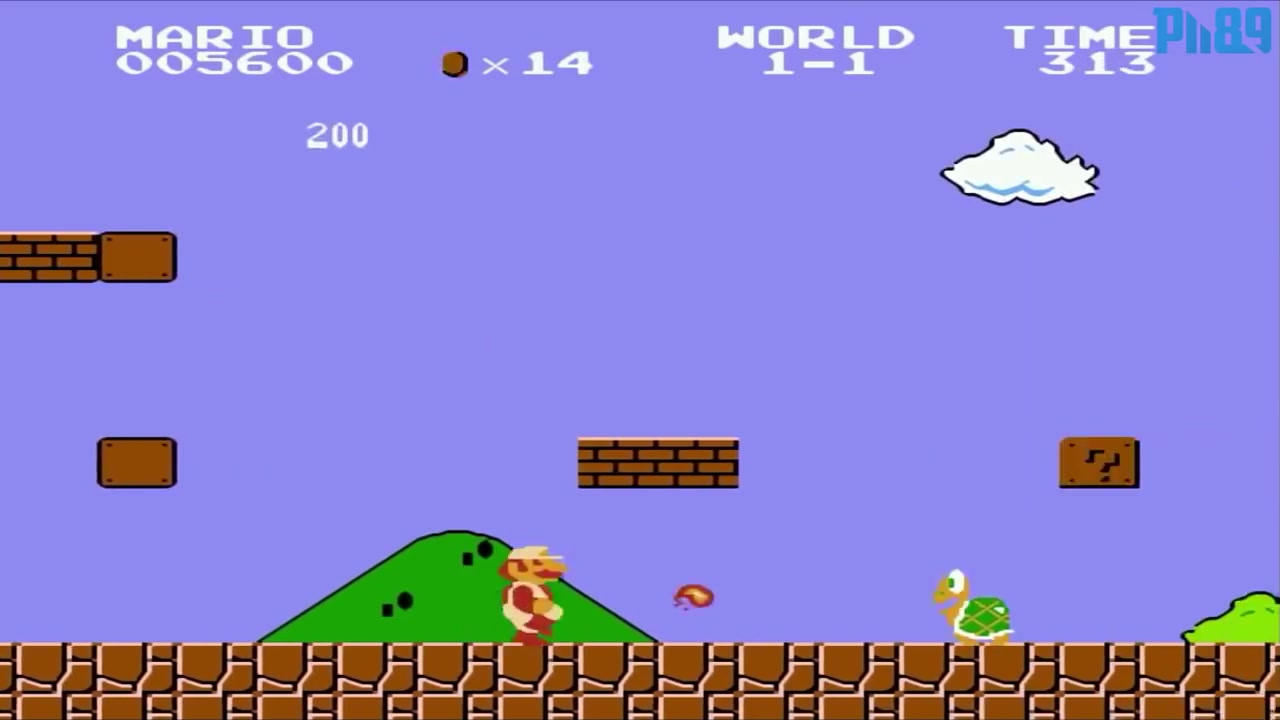mario: (496, 542, 573, 641)
